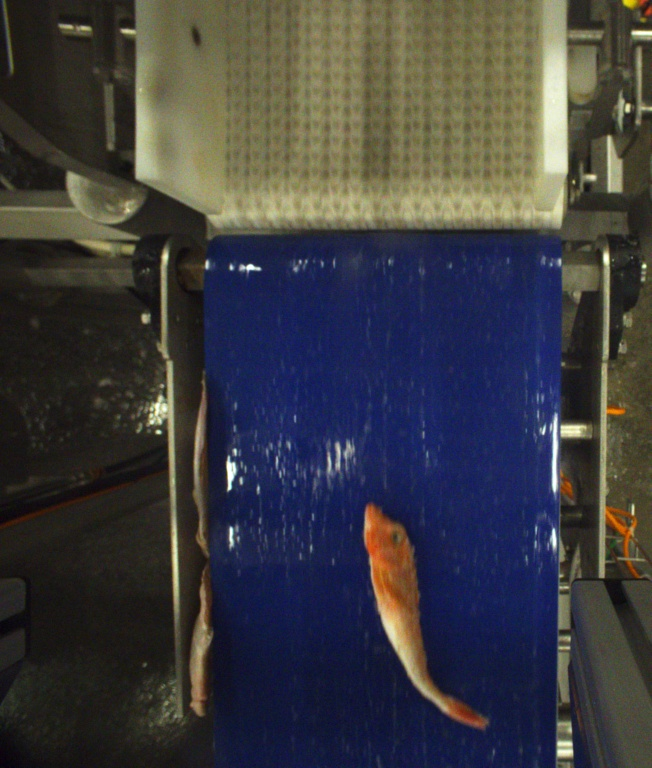GUU: (362, 505, 492, 730)
